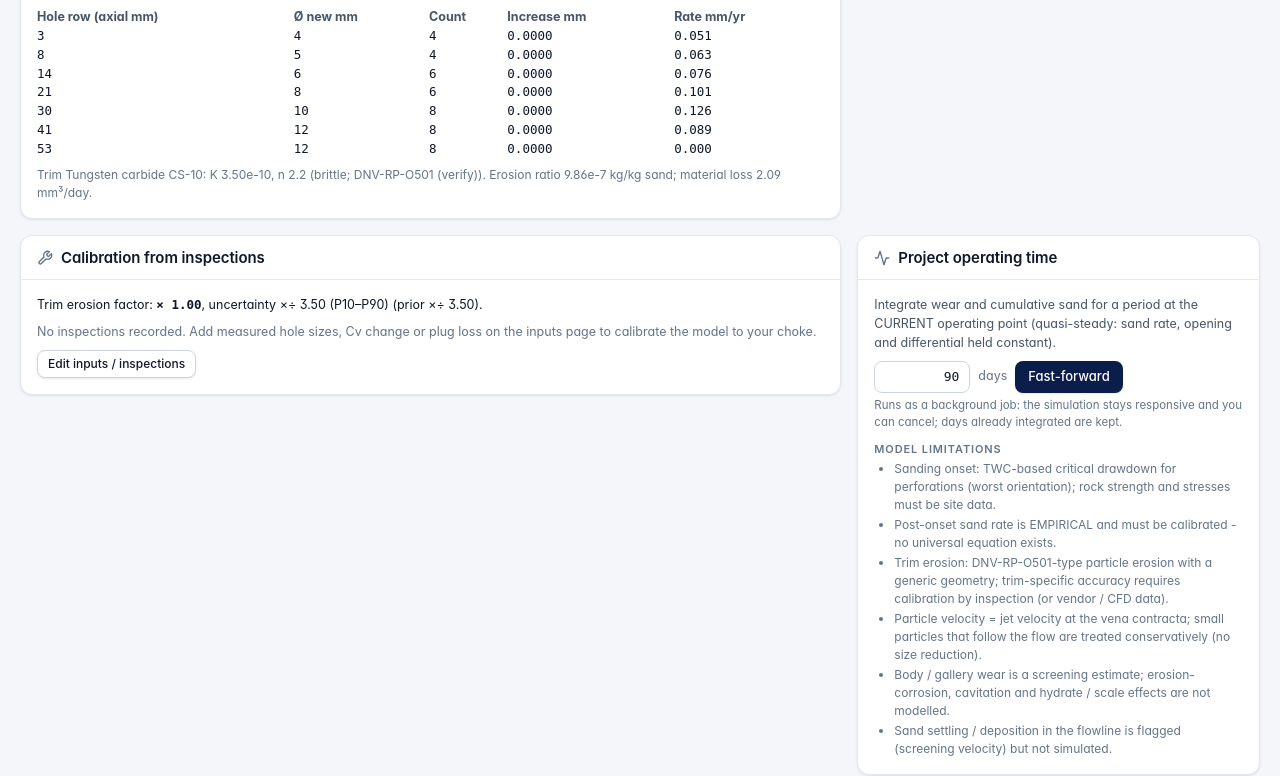
Scenario: Background job progress › cancels a running job and reports what was kept
(page scrolled)
Click the button with test id "fast-forward".
click(1069, 377)  # box [1015,361,1123,393]
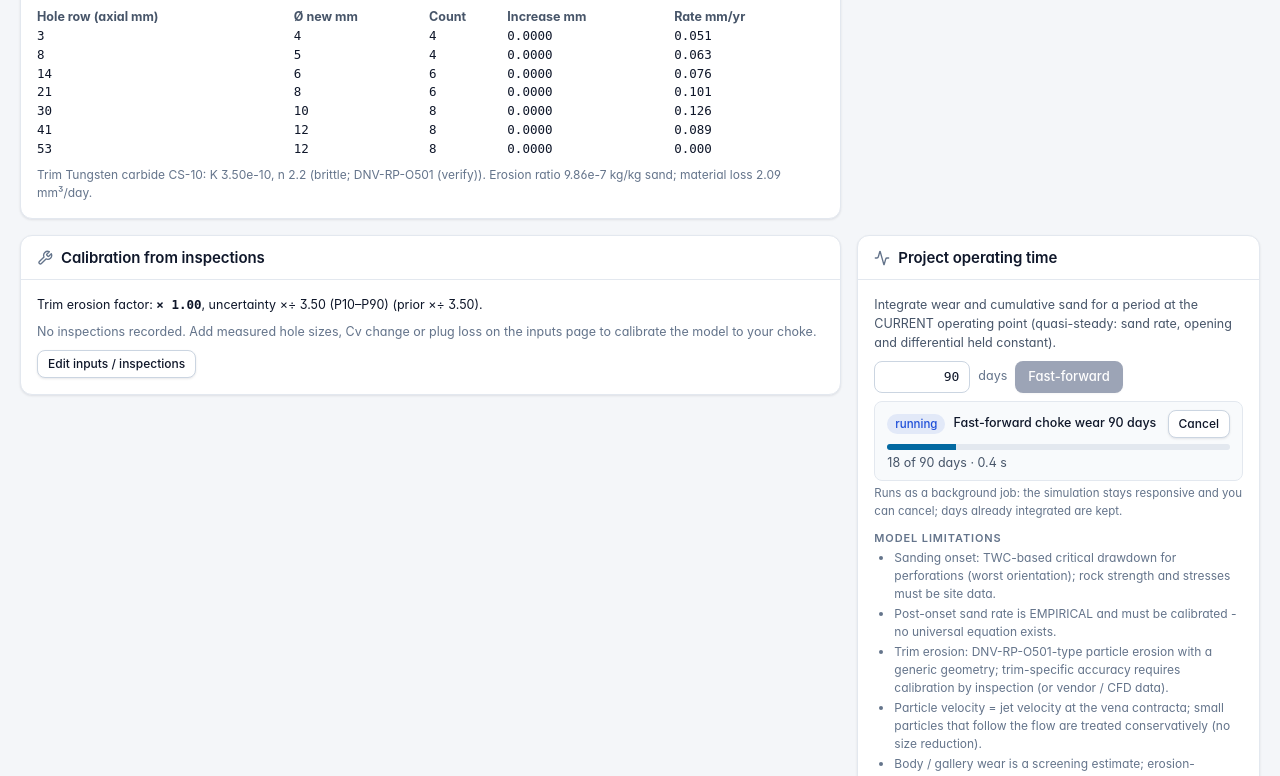
Check: the button with test id "fast-forward" is disabled, box [1015,361,1123,393]
Click the button with test id "job-cancel".
click(1199, 424)  # box [1168,410,1230,438]
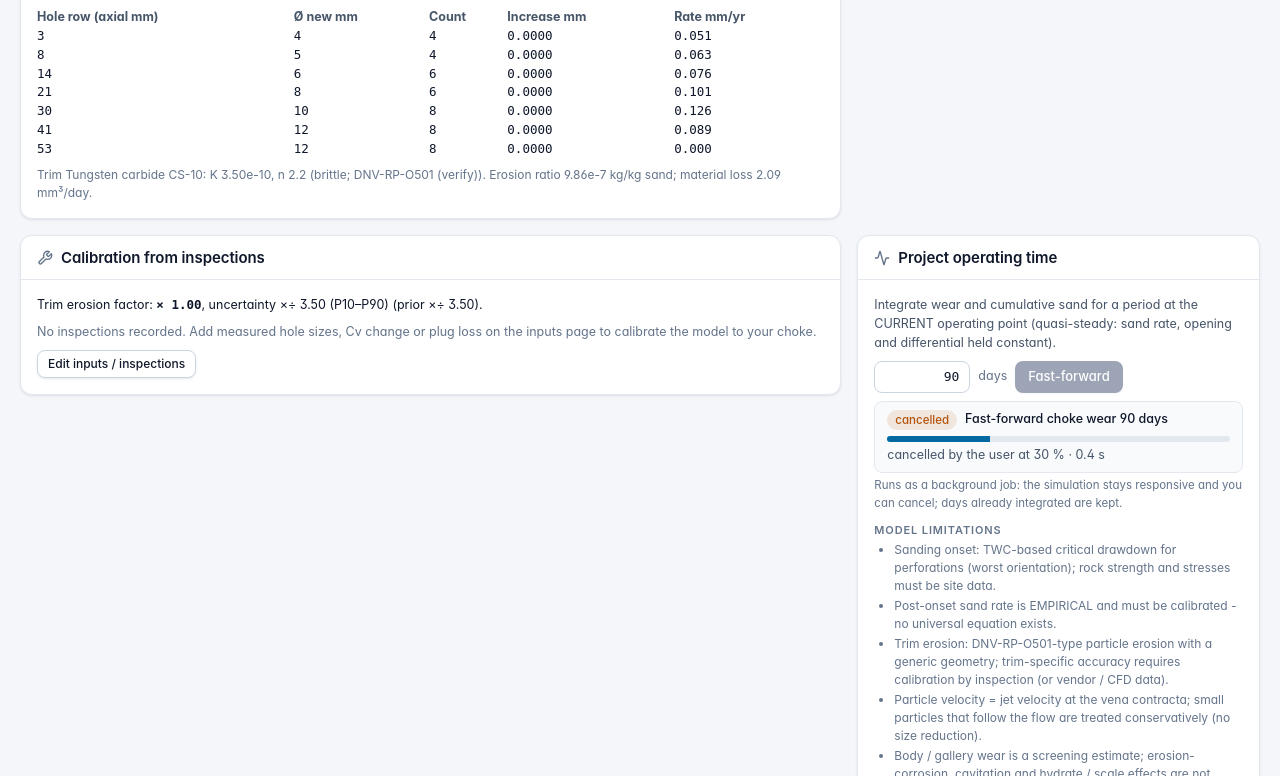
Check: the text with test id "job-state" reads "cancelled", box [895,413,949,427]
Check: the text with test id "job-message" shows "cancelled by the user at 30 %", box [887,447,1065,462]
